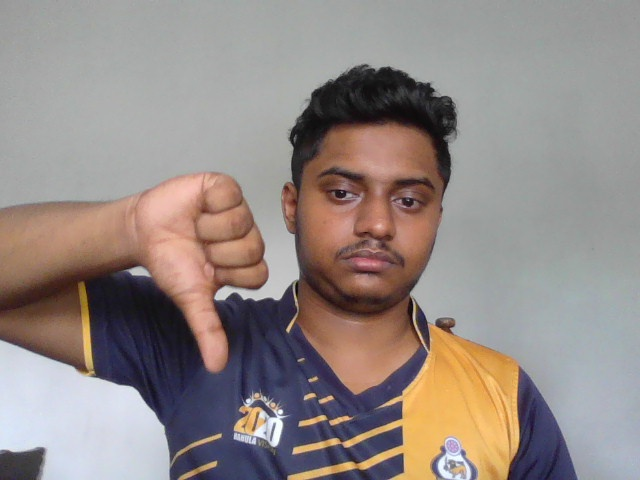Disagree: (135, 169, 268, 375)
